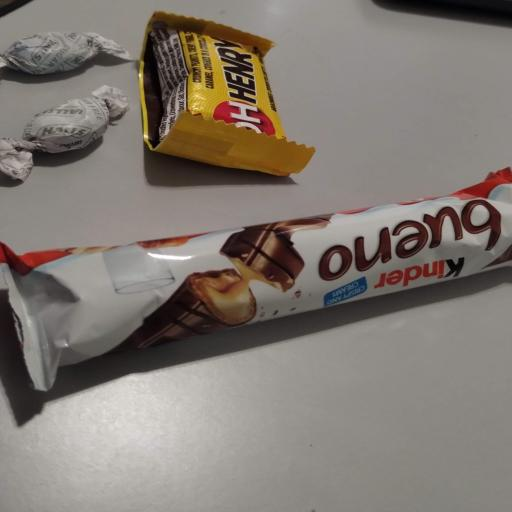chocolate: (0, 169, 511, 389), (140, 12, 314, 175), (0, 86, 129, 181), (0, 32, 133, 74)
